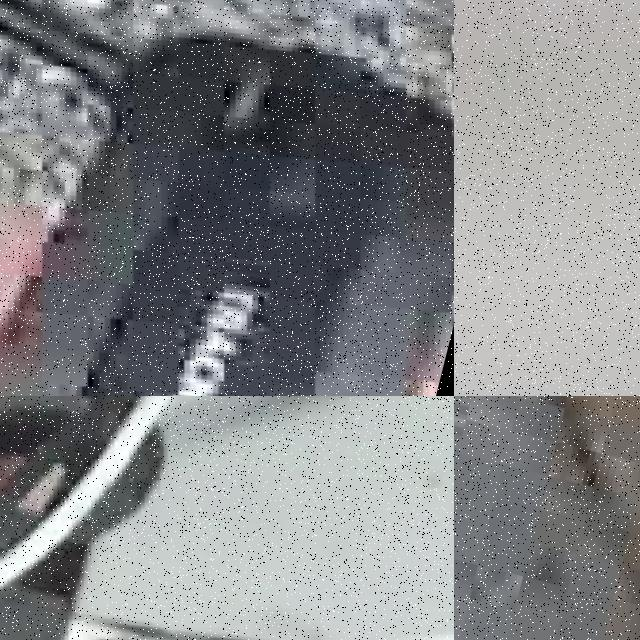drone: (0, 0, 454, 396), (0, 396, 454, 640), (454, 0, 640, 396)
